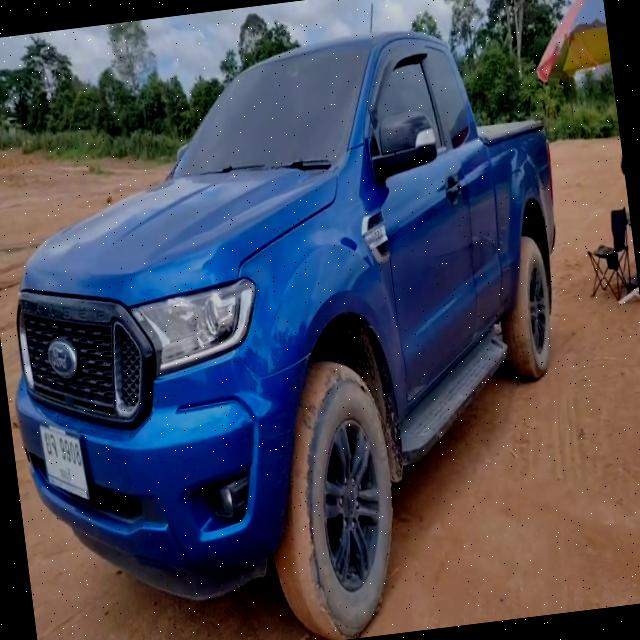Digit: (58, 437, 83, 468)
Licenseplate: (38, 422, 91, 501)
Provincename: (57, 464, 73, 484)
Thaichar: (43, 432, 59, 458)
